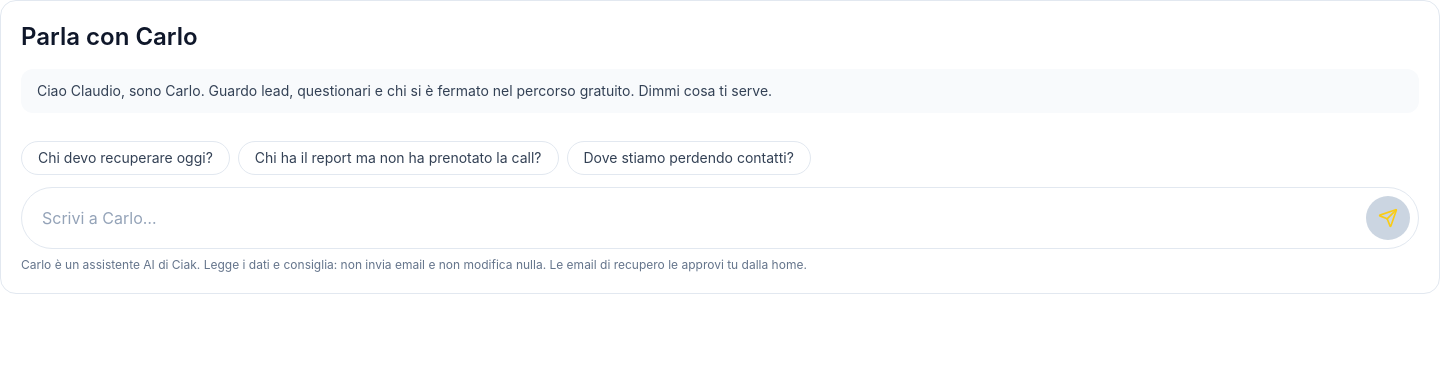
Test: carlo: saluta, chiama il suo percorso e mostra la risposta
Expected: the text "sono Carlo" is shown, [37,82,772,99]
Type "A che punto siamo?" into the field labelled "Scrivi a Carlo" at (698, 218), box [42,206,1354,230]
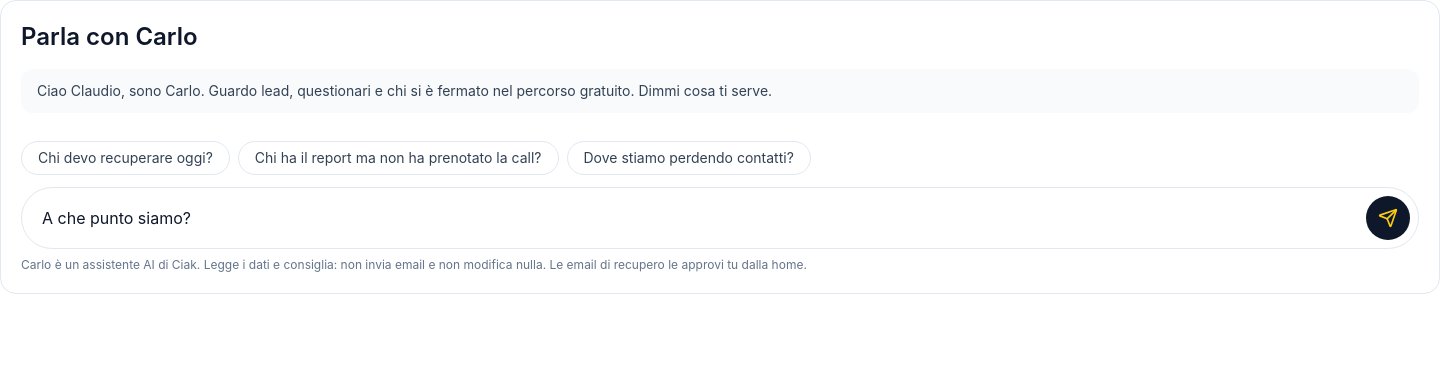
Click the button named "Invia a Carlo" at (1388, 218), box [1366,196,1410,240]
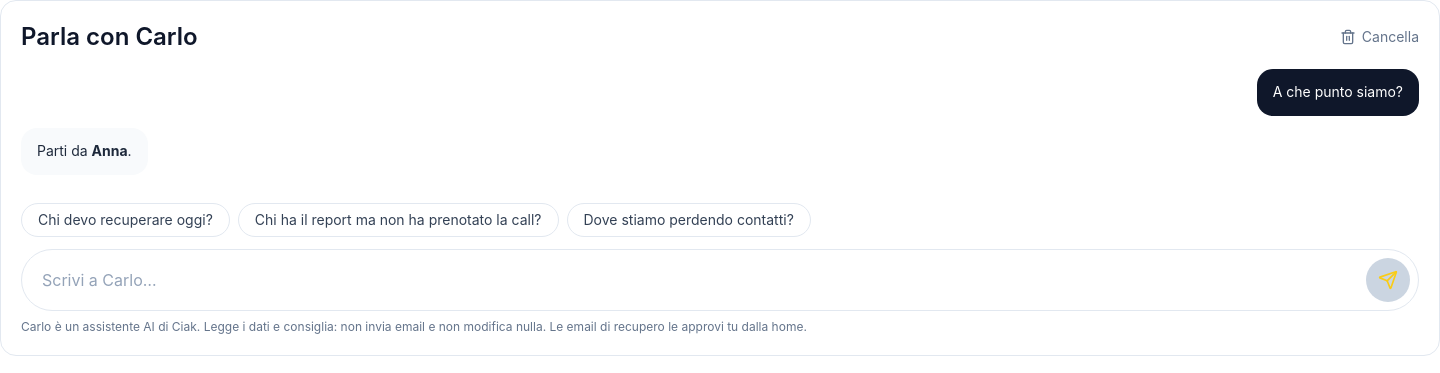
Expected: the text "Anna" is shown, [92,142,128,159]
